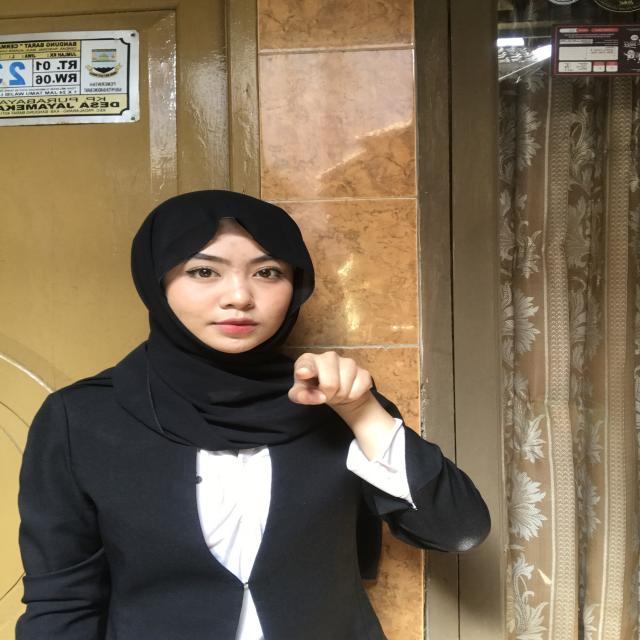kamu: (272, 338, 393, 424)
